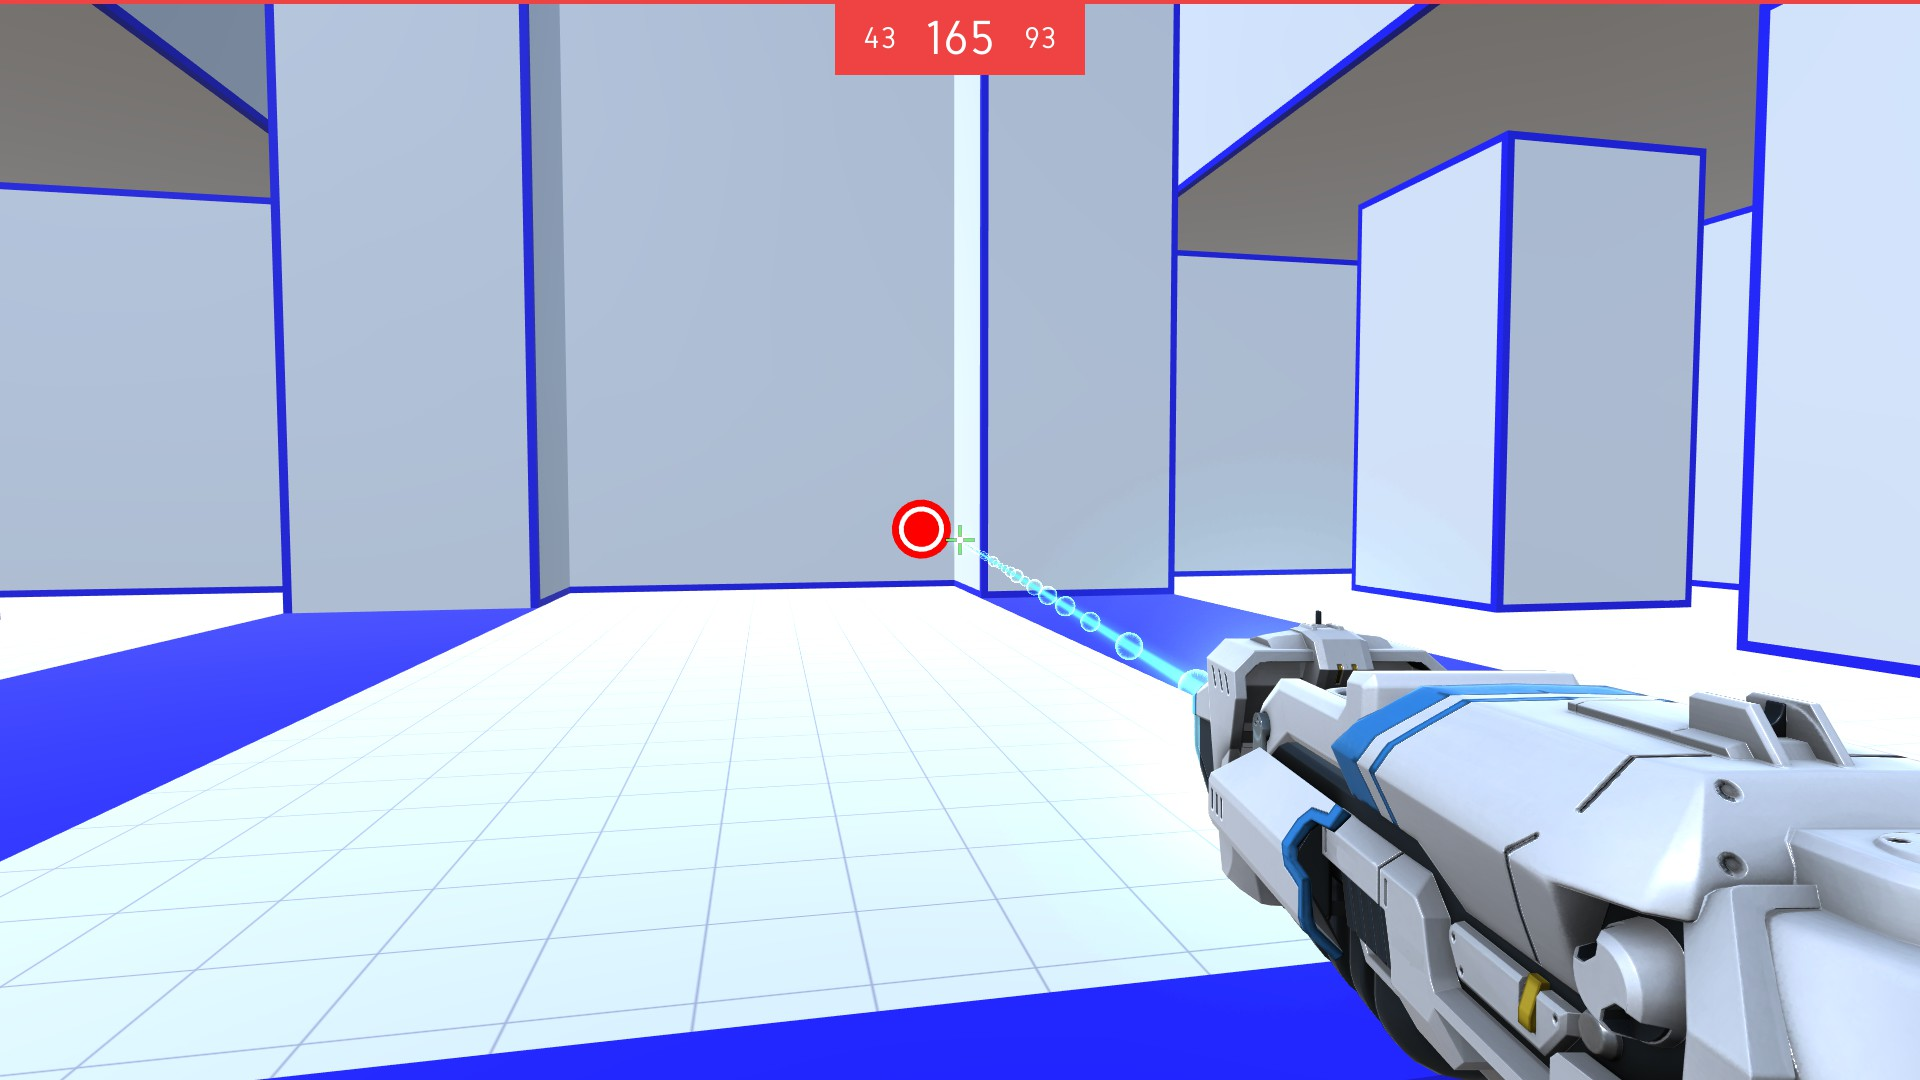target: (887, 501, 953, 556)
